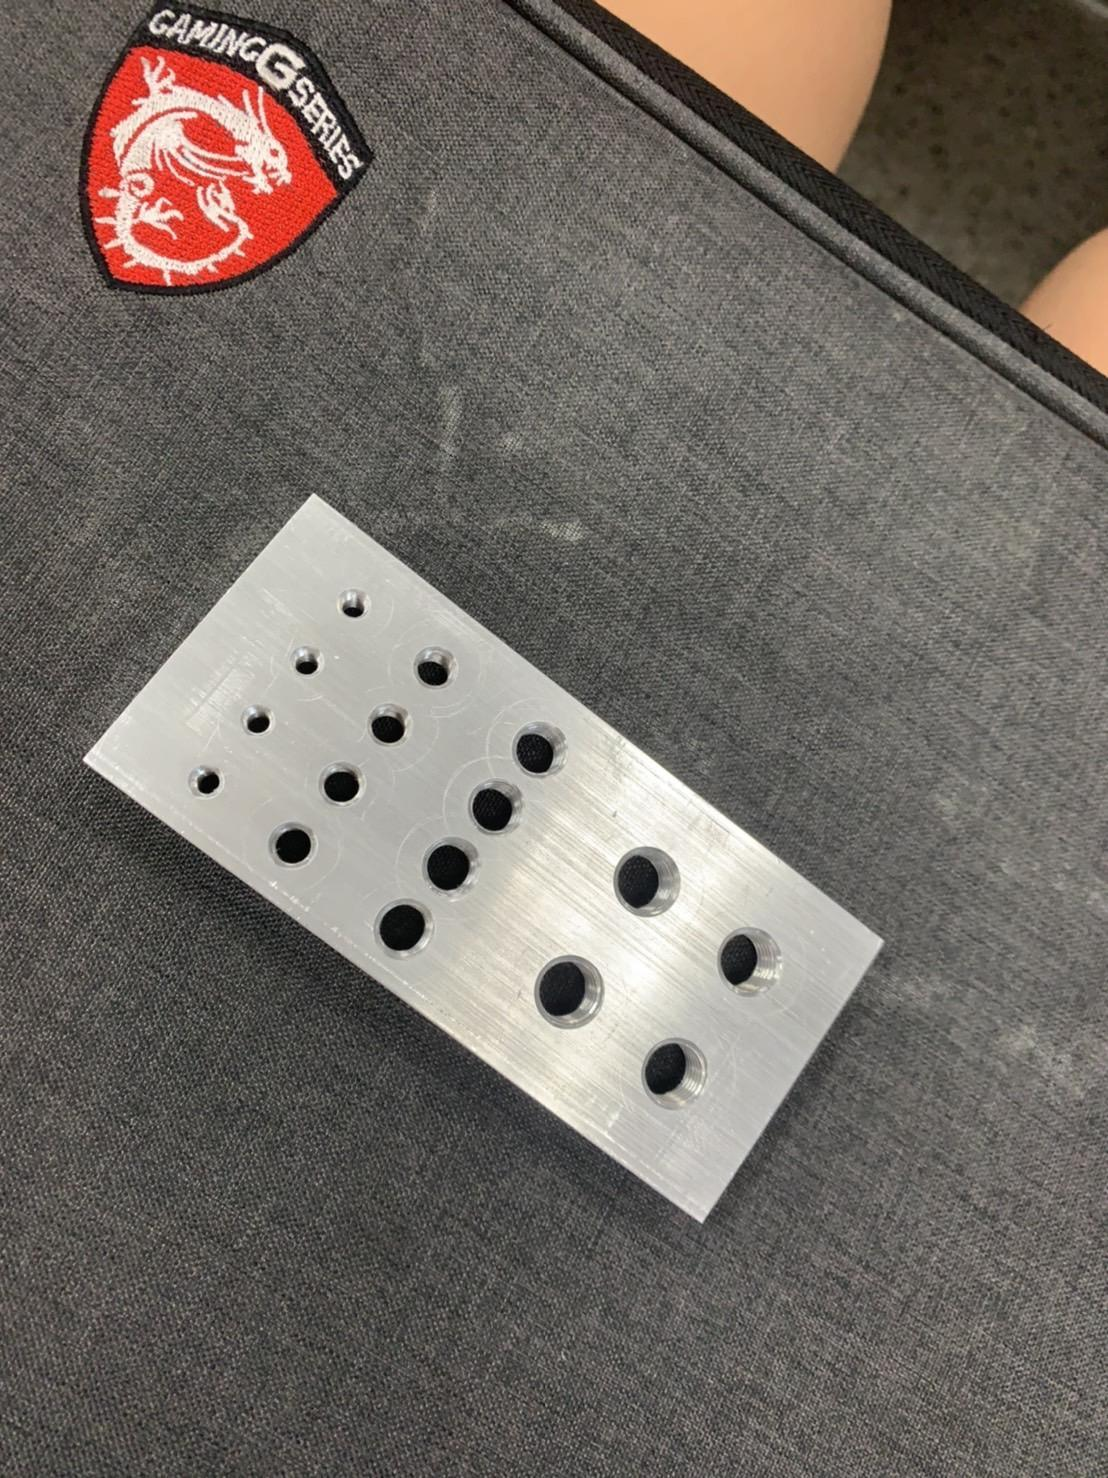hole: (527, 941, 617, 1032), (711, 918, 790, 1006), (633, 1030, 711, 1116), (604, 840, 688, 917), (506, 720, 567, 782), (420, 838, 483, 895), (377, 902, 434, 959), (462, 782, 523, 836), (267, 817, 319, 872), (320, 760, 368, 806), (365, 702, 414, 747), (411, 645, 462, 688), (184, 762, 226, 803), (338, 585, 372, 625), (236, 702, 274, 738), (284, 641, 324, 675)
